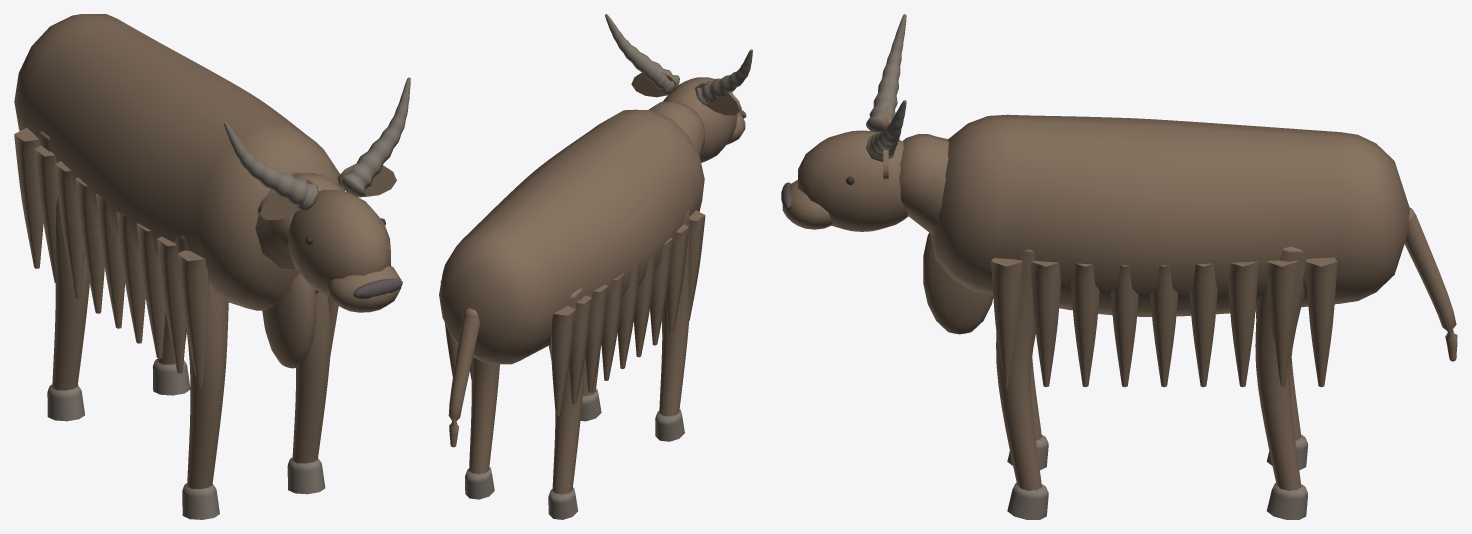
Rendered from polar-tundra-and-alpine-fauna-yak-90452c4c__6059.glb.
The picture shows the model from 3 angles, left to right: view 1: azimuth 30°, elevation 25°; view 2: azimuth 150°, elevation 25°; view 3: azimuth 270°, elevation 25°; orthographic projection. The views are drawn at different scales.
Parts seen in each view (by area): view 1: yak; view 2: yak; view 3: yak.
Boxes of the visible parts, x1,y1,x2,y2 form: yak: (14,14,410,519); yak: (439,14,752,519); yak: (781,14,1457,519).
Size of the model in its own units: 0.8706 by 2.01 by 2.84.
